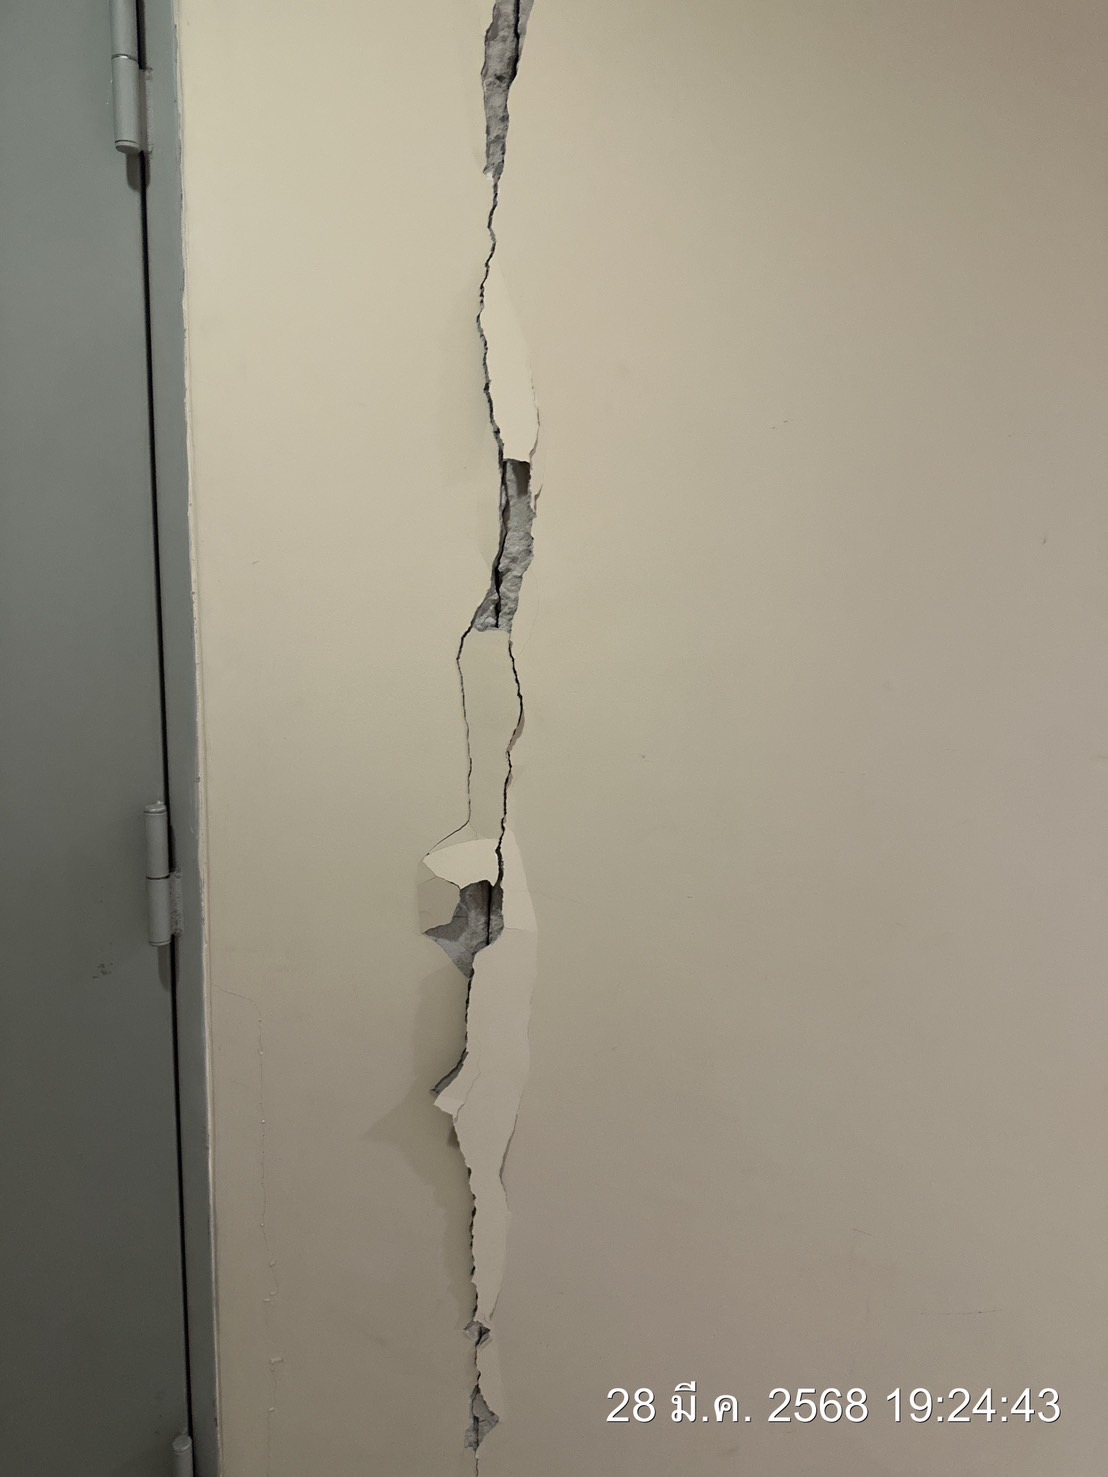High: (377, 6, 597, 1477)
